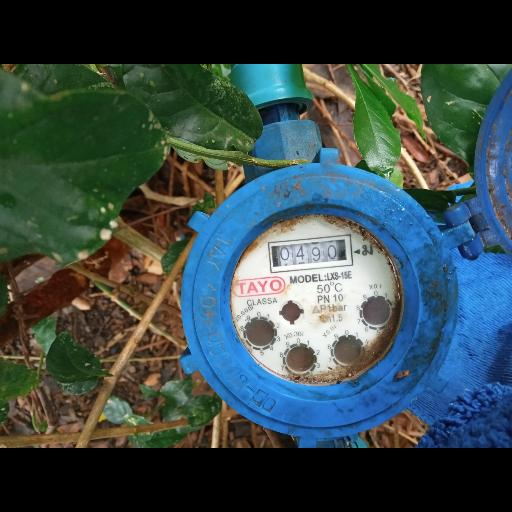0: (277, 245, 293, 267), (322, 240, 338, 262)
4: (292, 243, 309, 265)
9: (307, 241, 324, 263)
border_water_meter_number: (267, 233, 353, 273)
